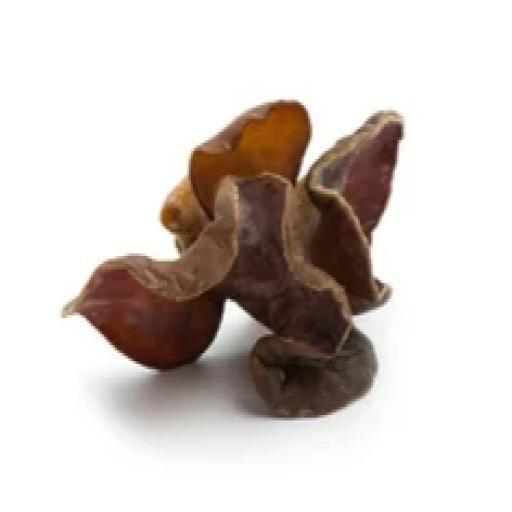mushroom: (57, 77, 425, 424)
